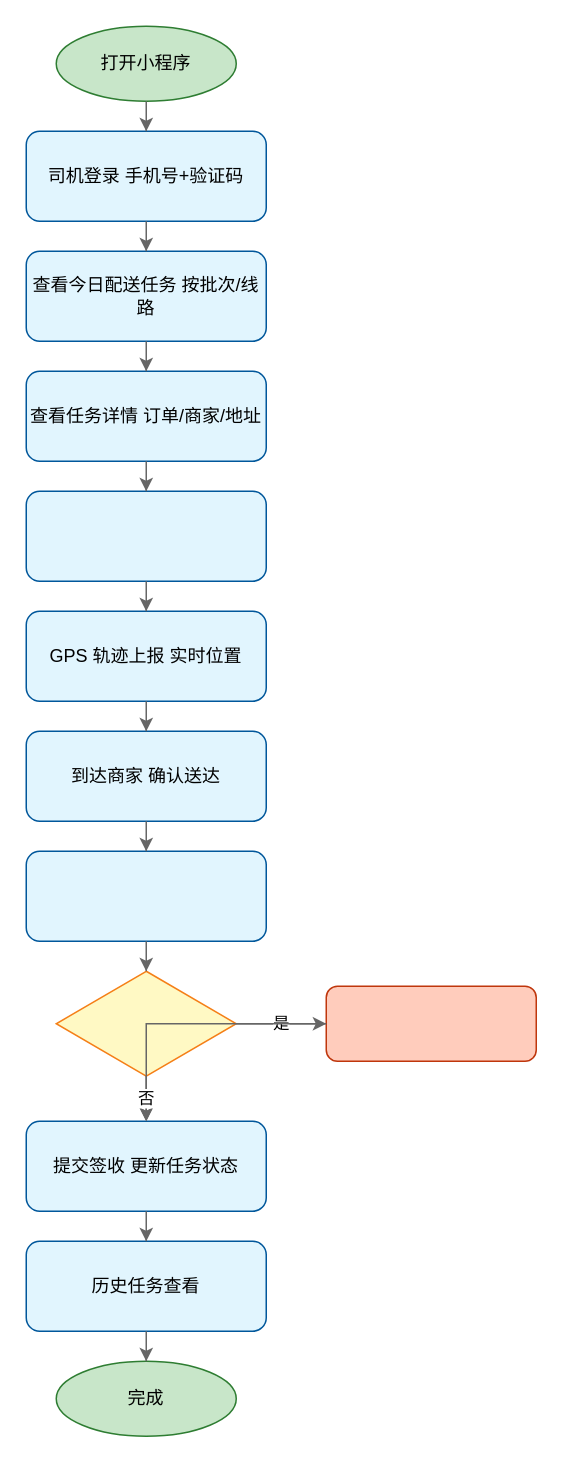
This 563x1463 diagram has some shape labels left out. The shapes that lost their labels are listed below. From the top down, each one's centre as x and y in pixels, then its label:
At pixel 145 535: "点击导航 调用地图 SDK".
At pixel 145 895: "拍照存证/ 电子签名/温度记录".
At pixel 145 1023: "是否有实收差异？".
At pixel 430 1023: "标记实收差异".
